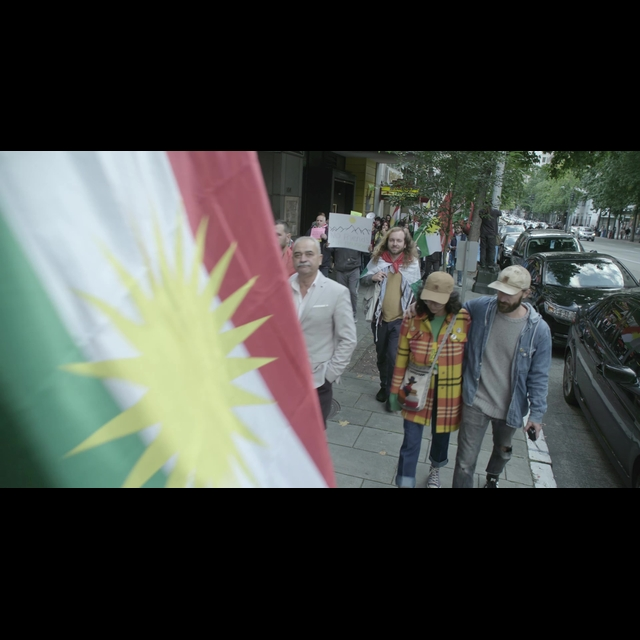IBKY: (48, 192, 298, 485)
